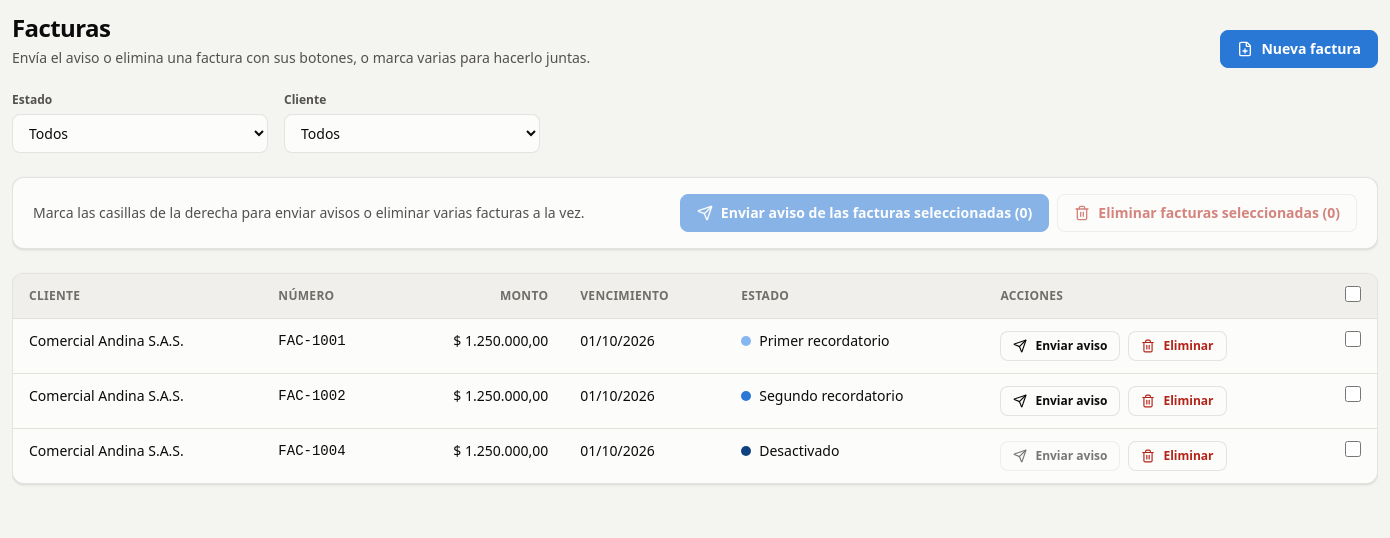
Scenario: FacturasPage: selección de facturas › la casilla del encabezado marca todas las facturas visibles
Step 1. Click the checkbox named "Seleccionar todas las facturas visibles" → {"x": 1353, "y": 294}, box [1345,286,1361,302]
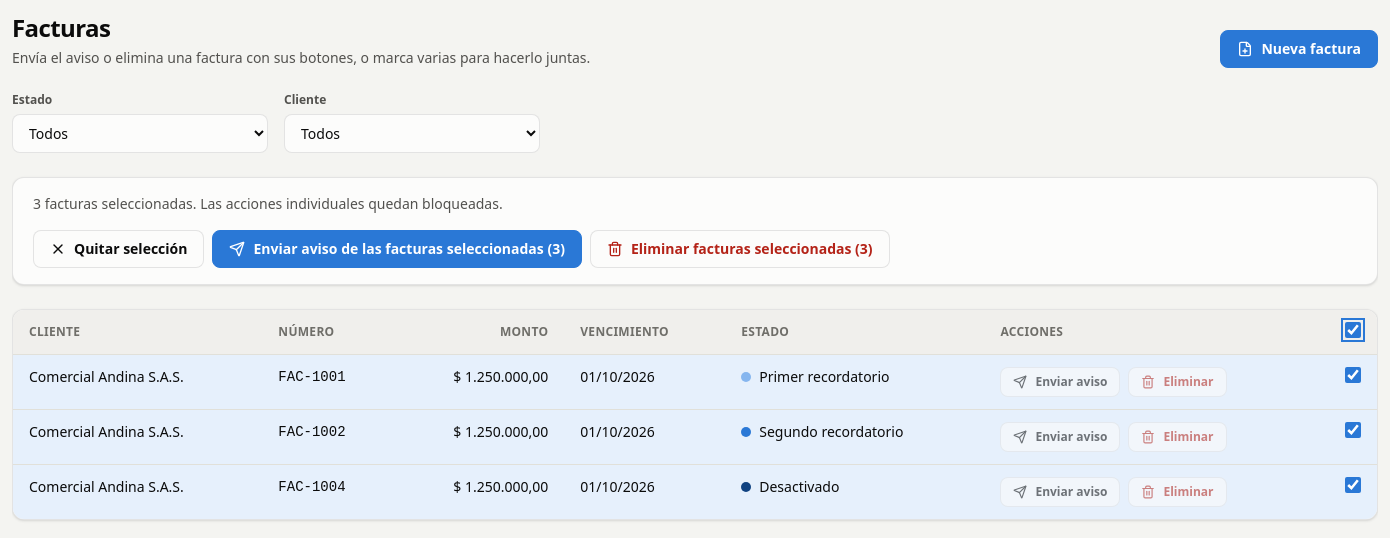
Now the checkbox named "Seleccionar FAC-1001" is checked, box [1345,367,1361,383]
Now the checkbox named "Seleccionar FAC-1002" is checked, box [1345,422,1361,438]
Now the checkbox named "Seleccionar FAC-1004" is checked, box [1345,477,1361,493]
